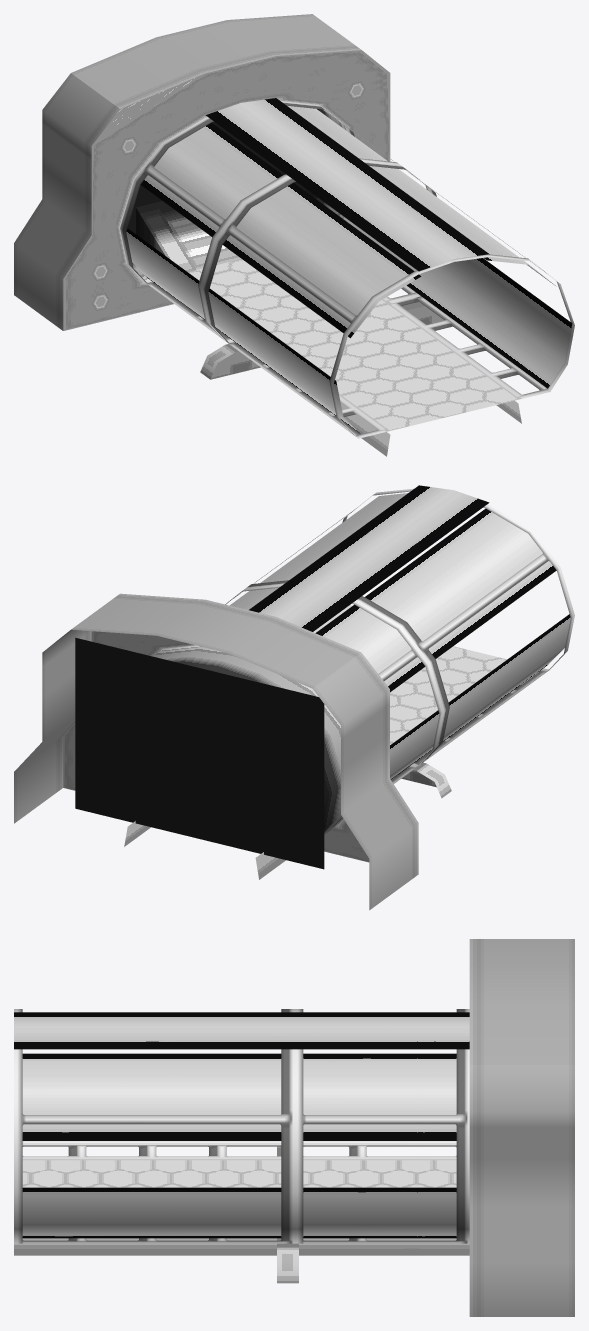
The model's file is MARINE2-3.obj.
3 views of the same model, one above another, from view 1: azimuth 30°, elevation 25°; view 2: azimuth 150°, elevation 25°; view 3: azimuth 270°, elevation 25° (orthographic). The views are drawn at different scales.
Visible parts, largest first — view 1: polygon20, polygon8, polygon4, polygon5, polygon12, polygon6, polygon3; view 2: polygon12, polygon20, polygon8, polygon5, polygon4, polygon3, polygon6; view 3: polygon20, polygon8, polygon5, polygon4, polygon3, polygon6.
Part boxes in pixels (x1,y1,x2,y2): polygon20: (126,98,572,433); polygon8: (14,14,390,330); polygon4: (188,259,517,430); polygon5: (120,101,574,437); polygon12: (127,109,348,281); polygon6: (147,281,549,438); polygon3: (174,297,521,456); polygon12: (75,637,343,869); polygon20: (230,485,570,779); polygon8: (14,593,418,910); polygon5: (225,488,574,783); polygon4: (390,646,506,744); polygon3: (124,685,520,879); polygon6: (391,668,548,783); polygon20: (14,1012,469,1238); polygon8: (469,939,574,1316); polygon5: (14,1009,469,1243); polygon4: (22,1160,456,1187); polygon3: (14,1146,469,1283); polygon6: (22,1143,456,1241).
Size of the model in its own units: 0.7812 by 0.4685 by 1.
